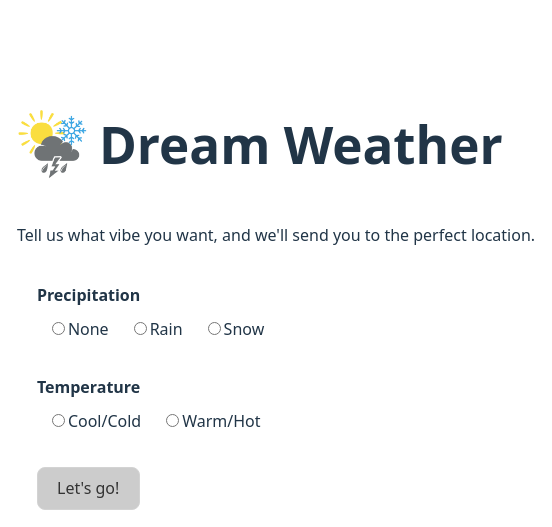
Test: Form component tests › disables submit with invalid weather combinations
The width and height of the screenshot is (552, 527).
What coordinates should you click on to do the following:
click the radio button labelled "Snow"
I would click on:
 (214, 328)
Its box is [208, 322, 221, 335].
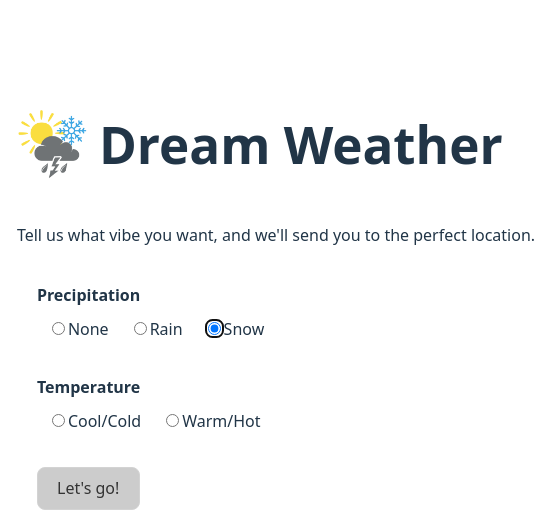
What coordinates should you click on to do the following:
click the radio button labelled "Warm/Hot"
I would click on:
 (173, 420)
Its box is [166, 414, 179, 427].
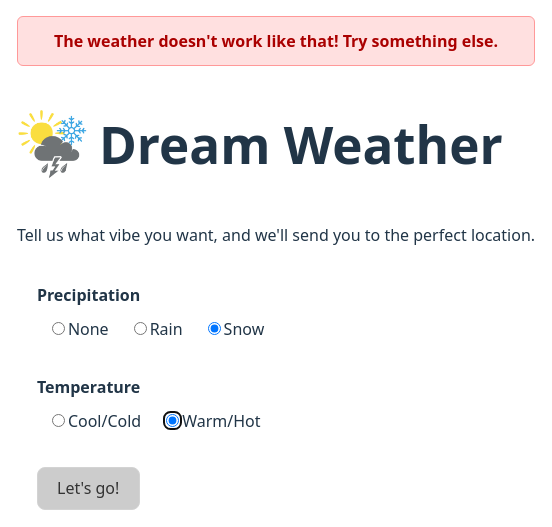
Expected: the button "Let's go!" is disabled, [37, 467, 140, 510]
Result: the text "The weather doesn't work like that! Try something else." is shown at [17, 16, 535, 66]
